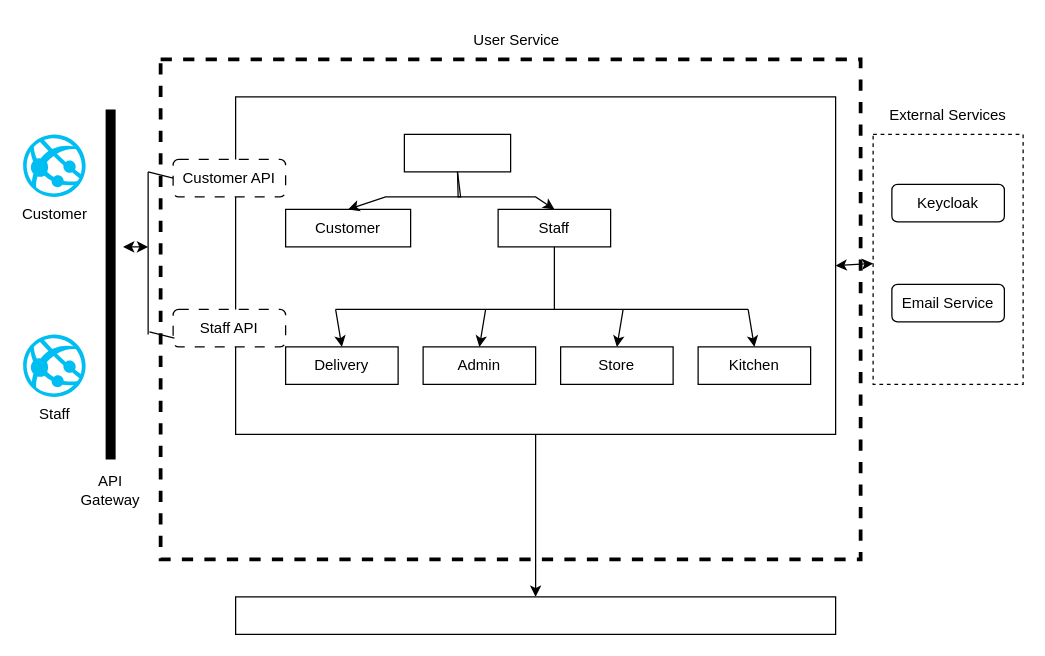
The diagram is 1045 pixels wide and 656 high, and some of its shapes have lost their labels. Each missing label, with the centre of its shape:
"Event Stream(Masstransit)" belongs at point 535,615.
"User" belongs at point 457,152.
